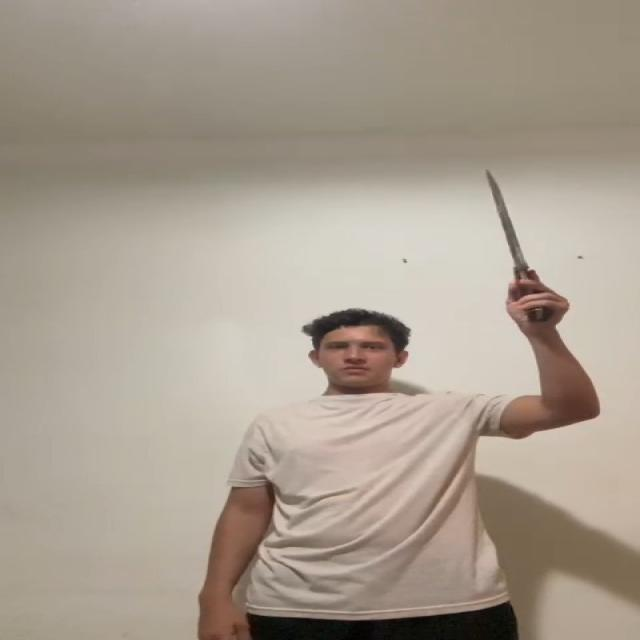knife: (485, 168, 525, 265)
